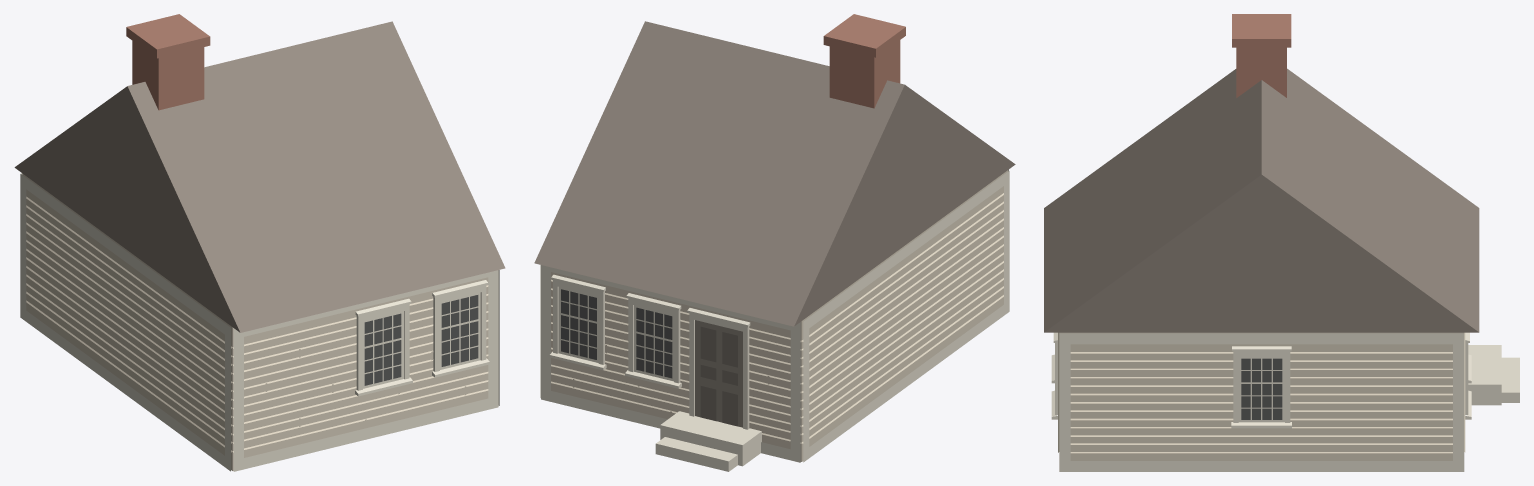
The model's file is recon_1835_west_030__inferred_1835.glb.
The picture shows the model from 3 angles, left to right: view 1: azimuth 30°, elevation 25°; view 2: azimuth 150°, elevation 25°; view 3: azimuth 270°, elevation 25°; orthographic projection. The views are drawn at different scales.
Parts seen in each view (by area): view 1: recon_1835_west_030__inferred_1835; view 2: recon_1835_west_030__inferred_1835; view 3: recon_1835_west_030__inferred_1835.
Boxes of the visible parts, x1=… form: recon_1835_west_030__inferred_1835: x1=14, y1=14, x2=505, y2=471; recon_1835_west_030__inferred_1835: x1=534, y1=14, x2=1015, y2=471; recon_1835_west_030__inferred_1835: x1=1044, y1=14, x2=1519, y2=471.
Bounding box in the file's own units: 5.03 × 6.2 × 7.88.
